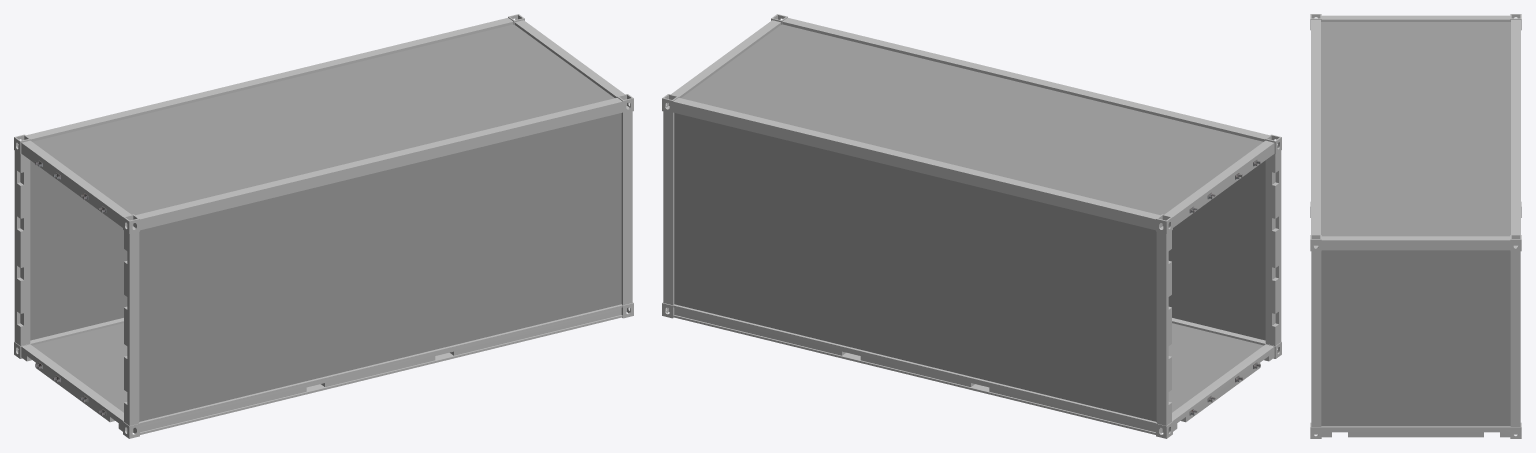
The model's file is Container_01a_01_snaps011.fbx.
3 views of the same model, side by side, from view 1: azimuth 30°, elevation 25°; view 2: azimuth 150°, elevation 25°; view 3: azimuth 270°, elevation 25° (orthographic). The views are drawn at different scales.
Parts seen in each view (by area): view 1: Container_01a_01_snaps011_LOD0; view 2: Container_01a_01_snaps011_LOD0; view 3: Container_01a_01_snaps011_LOD0.
Part boxes in pixels (x1,y1,x2,y2): Container_01a_01_snaps011_LOD0: [14, 14, 633, 438]; Container_01a_01_snaps011_LOD0: [662, 14, 1281, 438]; Container_01a_01_snaps011_LOD0: [1310, 14, 1521, 438].
Size of what is drawn, in the model's own units: 608 by 249 by 239.
